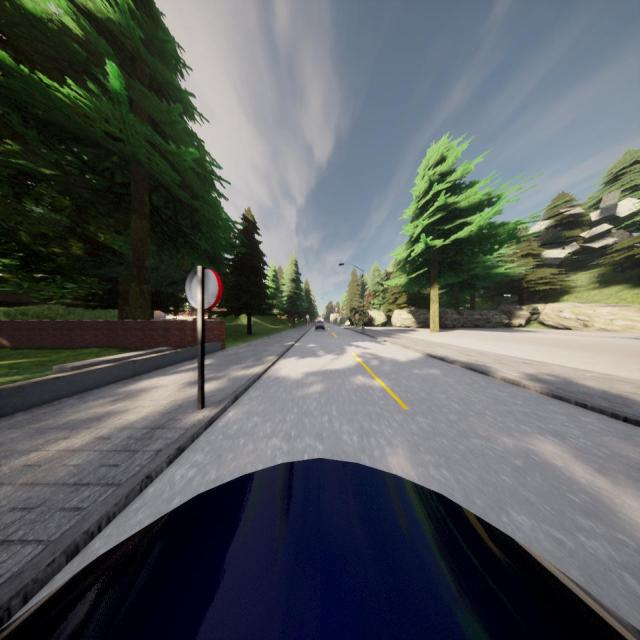Traffic_Signs: (185, 265, 223, 314), (354, 314, 360, 320), (305, 314, 310, 320)
Vehicle: (0, 457, 640, 640), (316, 320, 324, 330)
